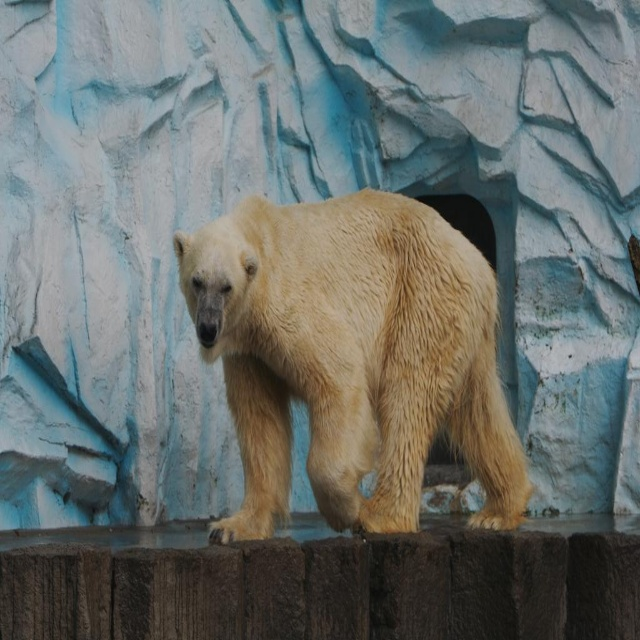Polar bear: (164, 182, 528, 552)
